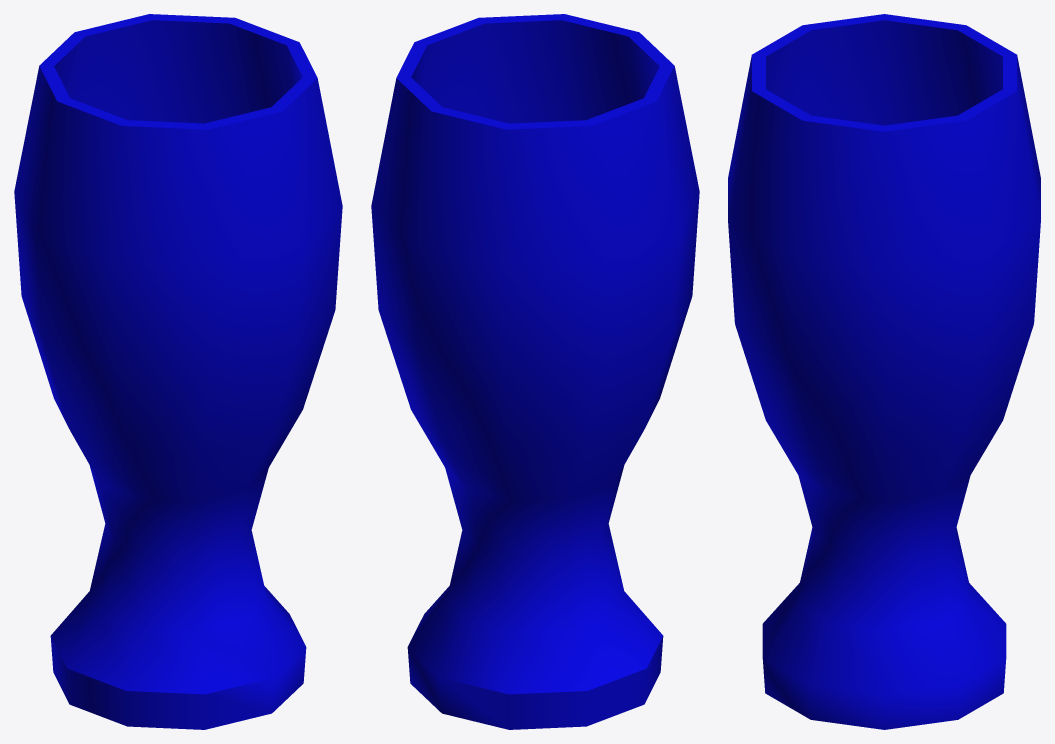
Rendered from Glass_Weizen.fbx.
The picture shows the model from 3 angles, left to right: view 1: azimuth 30°, elevation 25°; view 2: azimuth 150°, elevation 25°; view 3: azimuth 270°, elevation 25°; orthographic projection.
Parts seen in each view (by area): view 1: Glass_Weizen; view 2: Glass_Weizen; view 3: Glass_Weizen.
Part boxes in pixels (x1=…): Glass_Weizen: x1=14, y1=14, x2=342, y2=729; Glass_Weizen: x1=371, y1=14, x2=699, y2=729; Glass_Weizen: x1=728, y1=14, x2=1040, y2=729.
Size of the model in its own units: 37.45 by 75.84 by 35.61.
